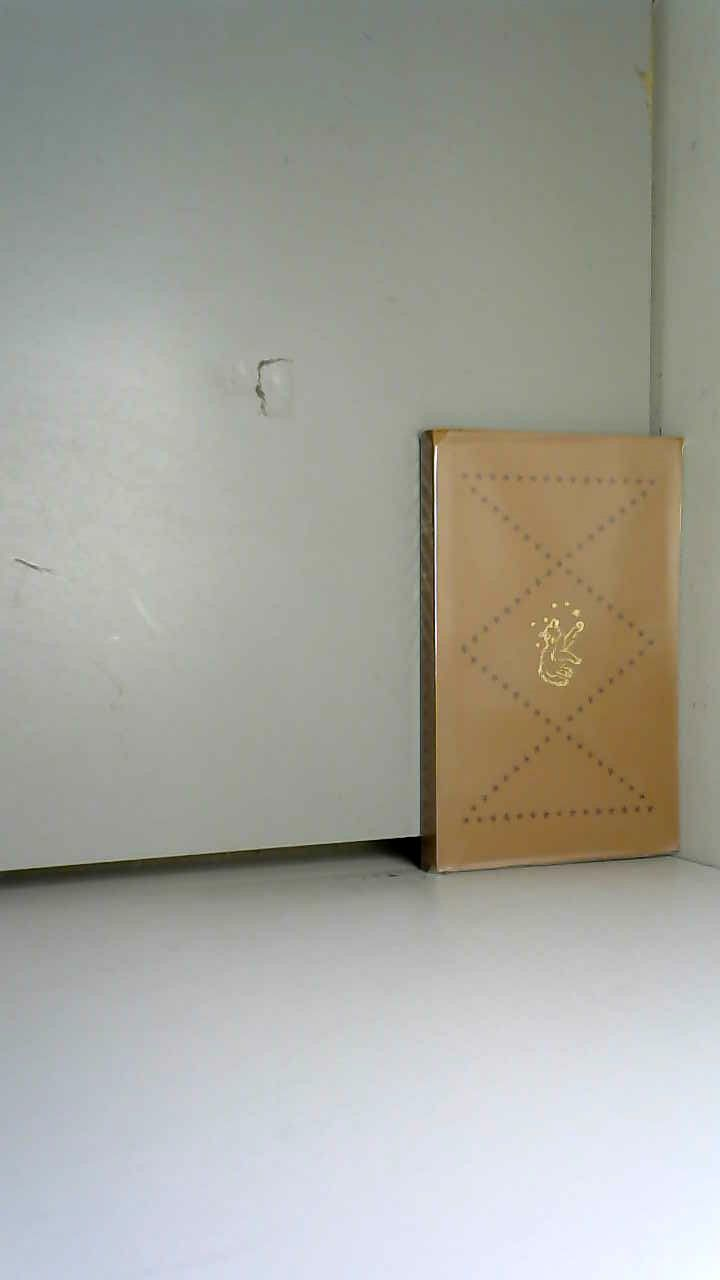book: (390, 400, 720, 901)
